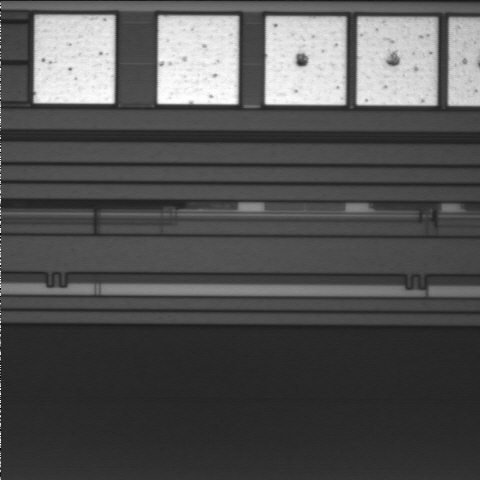pad: (34, 15, 115, 104), (265, 16, 346, 105), (157, 16, 238, 104), (357, 17, 437, 105)
